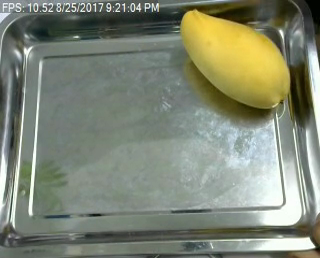Mango: (178, 8, 291, 110)
